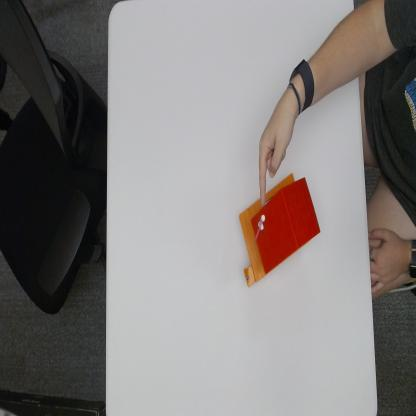Arm: (315, 2, 399, 98)
Hand: (260, 78, 305, 184)
House: (239, 173, 321, 287)
